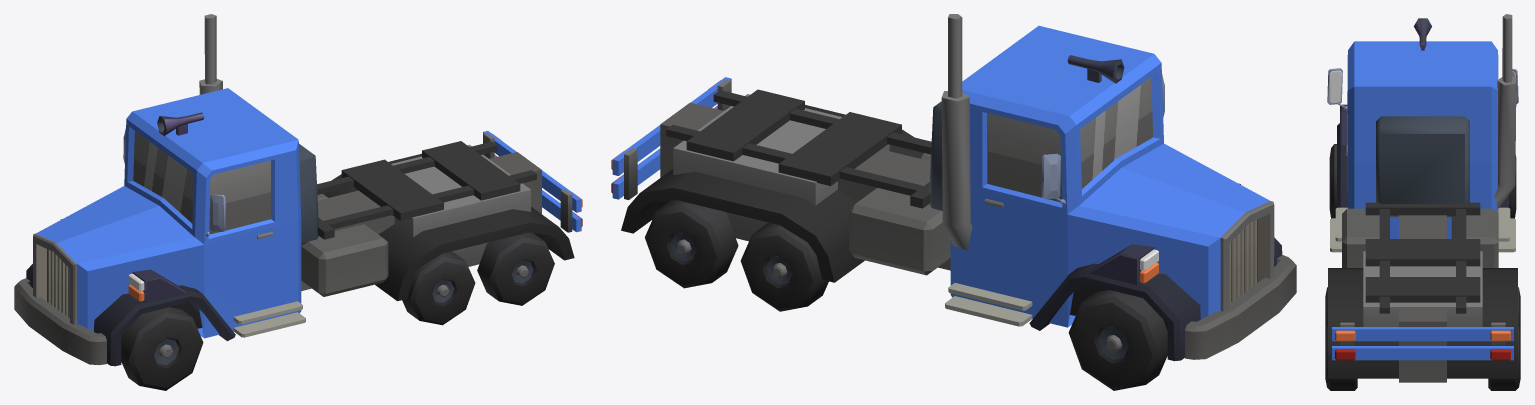
The model's file is Truck_H.fbx.
3 views of the same model, side by side, from view 1: azimuth 30°, elevation 25°; view 2: azimuth 150°, elevation 25°; view 3: azimuth 270°, elevation 25° (orthographic). The views are drawn at different scales.
Parts seen in each view (by area): view 1: Truck_H, FL, RM, ML; view 2: Truck_H, FR, RL, MR; view 3: Truck_H, RL, RM, FL, FR.
Part boxes in pixels (box(x1,y1,x2,y2)): Truck_H: box(14, 14, 582, 366); FL: box(121, 307, 203, 390); RM: box(477, 232, 554, 305); ML: box(402, 251, 475, 325); Truck_H: box(611, 14, 1296, 361); FR: box(1068, 290, 1167, 390); RL: box(645, 200, 738, 288); MR: box(740, 223, 828, 311); Truck_H: box(1327, 14, 1518, 382); RL: box(1488, 325, 1520, 390); RM: box(1325, 325, 1357, 390); FL: box(1329, 144, 1336, 218); FR: box(1509, 155, 1516, 218).
Bounding box in the file's own units: 5.24 × 2.81 × 1.85.
